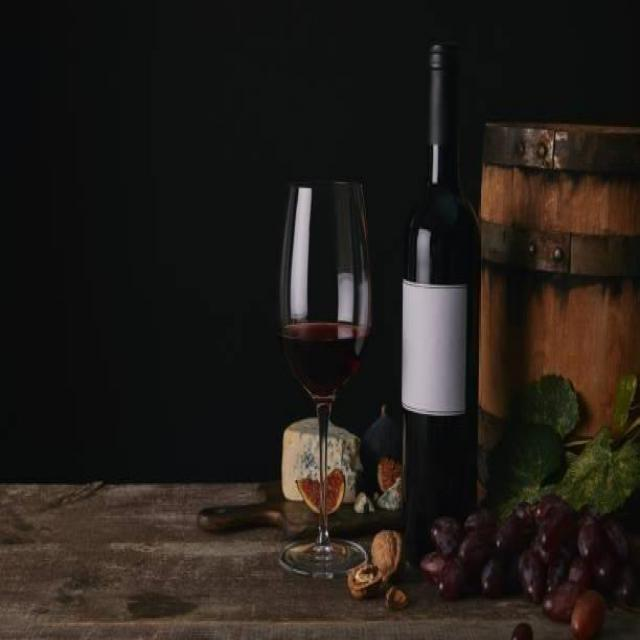bottle-glass: (397, 38, 482, 554)
glass-wine: (275, 173, 373, 577)
